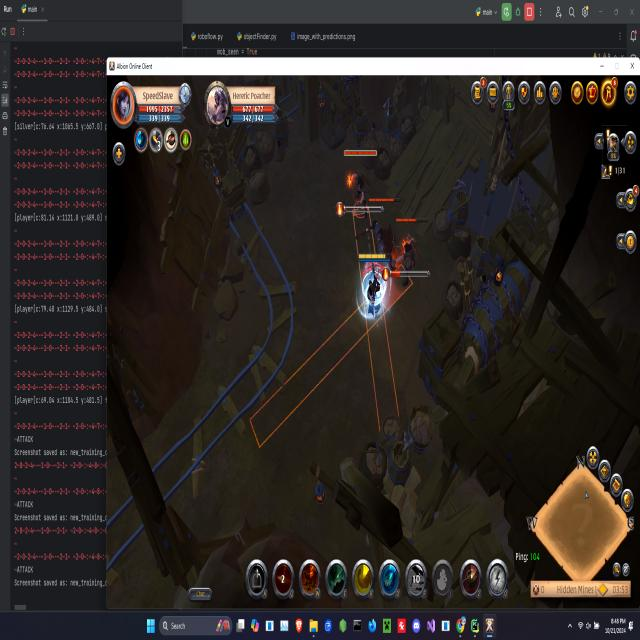ore: (389, 217, 429, 287), (341, 149, 379, 221), (368, 194, 394, 273)
red: (359, 254, 390, 324)
silver: (244, 258, 417, 452), (351, 208, 406, 440)
